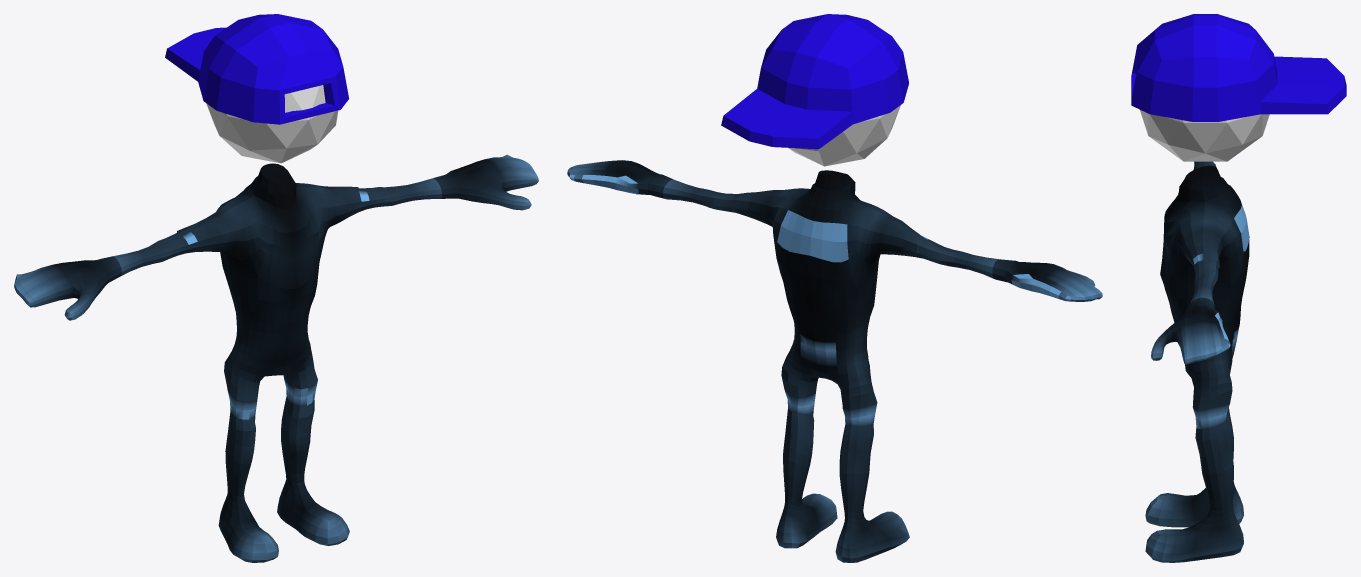
Rendered from mavi adam .fbx.
The picture shows the model from 3 angles, left to right: view 1: azimuth 30°, elevation 25°; view 2: azimuth 150°, elevation 25°; view 3: azimuth 270°, elevation 25°; orthographic projection. The views are drawn at different scales.
Parts seen in each view (by area): view 1: Satria.001, Cube.004, Icosphere.001; view 2: Satria.001, Cube.004, Icosphere.001; view 3: Satria.001, Cube.004, Icosphere.001.
Part boxes in pixels (left/top/right/bottom): Satria.001: left=14, top=154, right=538, bottom=562; Cube.004: left=165, top=14, right=348, bottom=124; Icosphere.001: left=206, top=85, right=338, bottom=163; Satria.001: left=567, top=160, right=1102, bottom=562; Cube.004: left=721, top=14, right=908, bottom=149; Icosphere.001: left=788, top=105, right=900, bottom=166; Satria.001: left=1145, top=161, right=1249, bottom=562; Cube.004: left=1131, top=14, right=1346, bottom=121; Icosphere.001: left=1140, top=110, right=1269, bottom=161.
Bounding box in the file's own units: 185 × 177 × 66.64.
